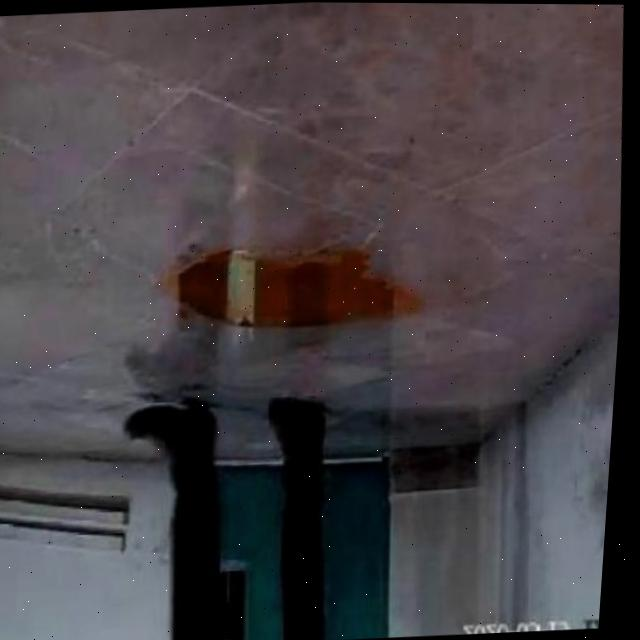spillage: (185, 247, 406, 327)
